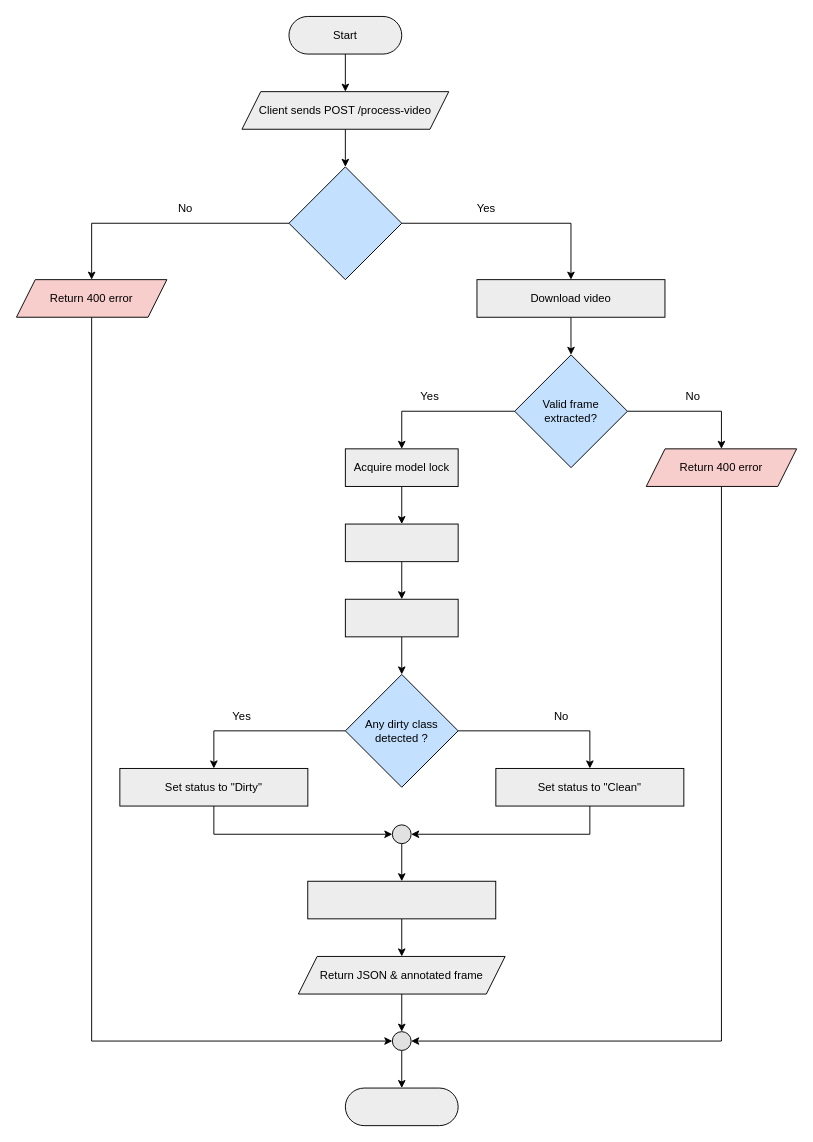
The diagram is 813 pixels wide and 1142 high, and some of its shapes have lost their labels. Each missing label, with the centre of its shape:
encode frame & build JSON: the point at 401,899
End: the point at 401,1106
Process detection: the point at 401,617
Video URL provided?: the point at 345,223
YOLO inference: the point at 401,542
